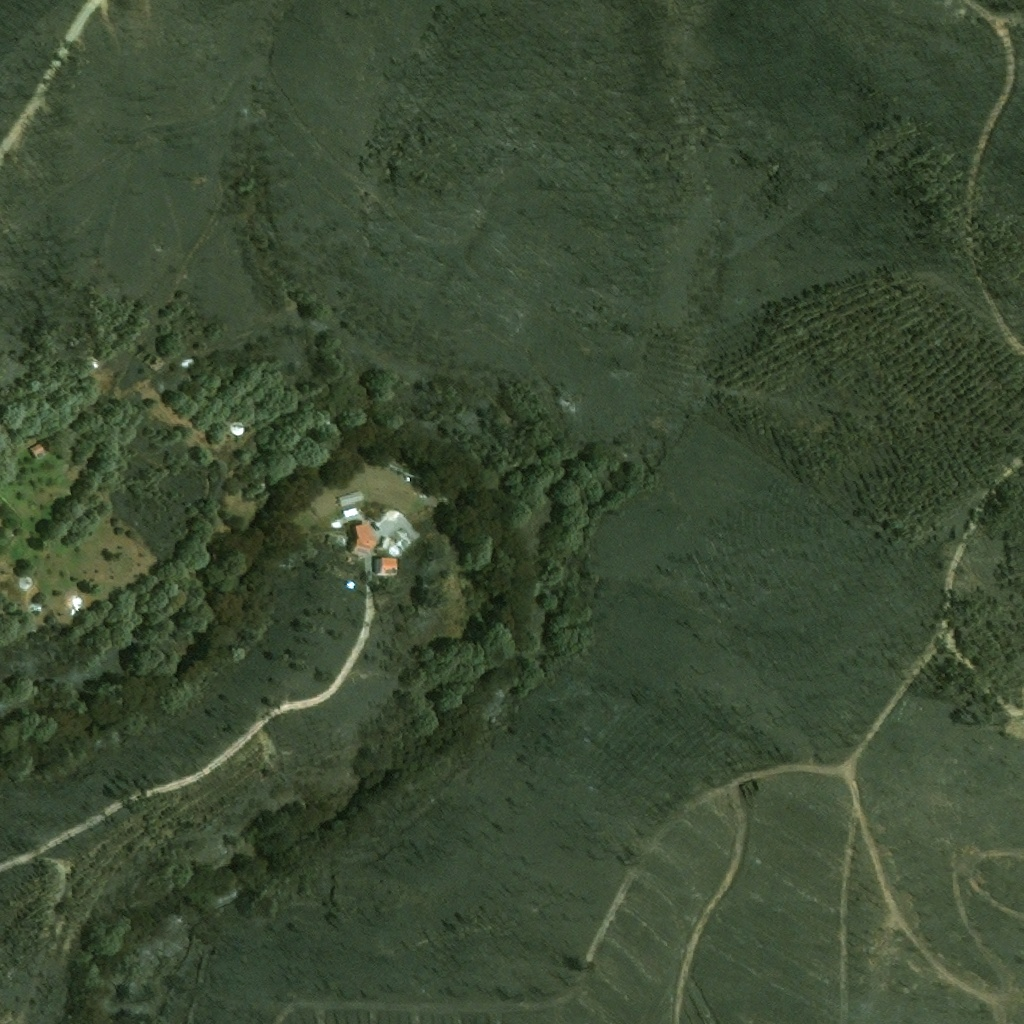0 no-damage: (351, 522, 377, 550), (335, 491, 364, 508), (29, 441, 48, 459), (378, 536, 391, 551), (342, 508, 357, 519)
1 minor-damage: (375, 558, 398, 576)
3 destroyed: (390, 527, 416, 557), (61, 589, 84, 611), (3, 586, 21, 604), (336, 536, 348, 546)
4 un-classified: (0, 423, 4, 432)
